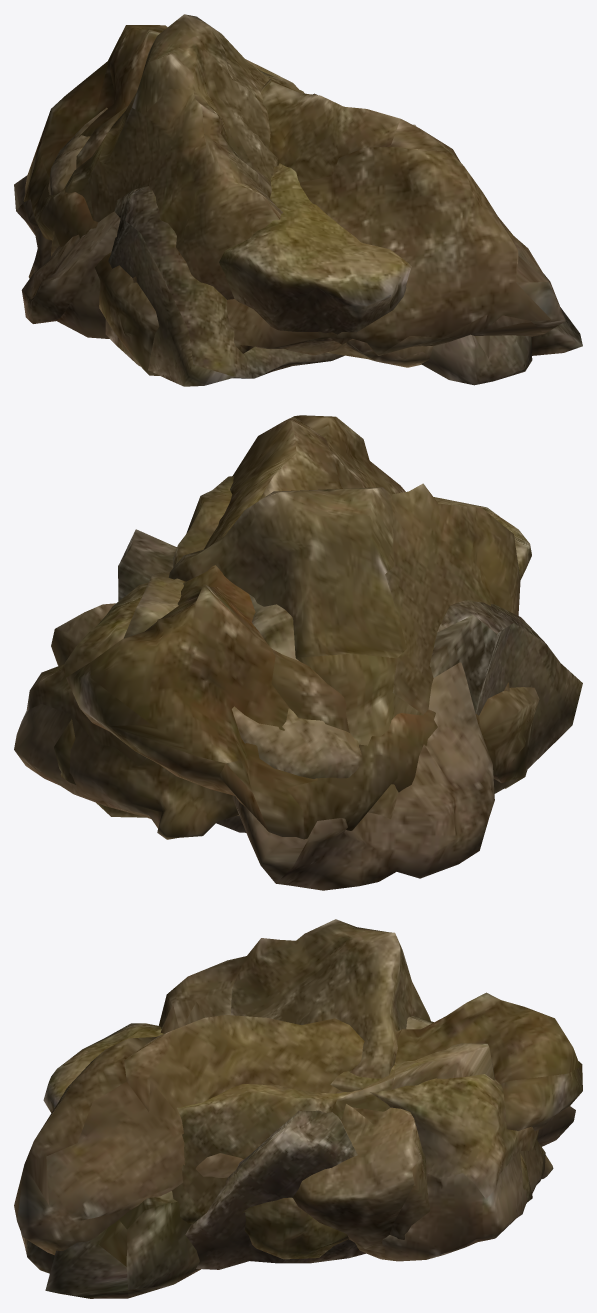
Rendered from rock_moss_set_01.glb.
The picture shows the model from 3 angles, top to bottom: view 1: azimuth 30°, elevation 25°; view 2: azimuth 150°, elevation 25°; view 3: azimuth 270°, elevation 25°; orthographic projection. The views are drawn at different scales.
Visible parts, largest first — view 1: rock_moss_set_01_rock01, rock_moss_set_01_rock04, rock_moss_set_01_rock05, rock_moss_set_01_rock03, rock_moss_set_01_rock02, rock_moss_set_01_rock06; view 2: rock_moss_set_01_rock01, rock_moss_set_01_rock04, rock_moss_set_01_rock02, rock_moss_set_01_rock05, rock_moss_set_01_rock03, rock_moss_set_01_rock06; view 3: rock_moss_set_01_rock01, rock_moss_set_01_rock04, rock_moss_set_01_rock05, rock_moss_set_01_rock06, rock_moss_set_01_rock02, rock_moss_set_01_rock03.
Part boxes in pixels (<box>): rock_moss_set_01_rock01: <box>23,25,565,375</box>; rock_moss_set_01_rock04: <box>51,14,317,299</box>; rock_moss_set_01_rock05: <box>48,90,411,355</box>; rock_moss_set_01_rock03: <box>105,124,416,386</box>; rock_moss_set_01_rock02: <box>14,175,582,385</box>; rock_moss_set_01_rock06: <box>245,59,433,367</box>; rock_moss_set_01_rock01: <box>66,415,539,839</box>; rock_moss_set_01_rock04: <box>51,483,520,819</box>; rock_moss_set_01_rock02: <box>232,594,494,890</box>; rock_moss_set_01_rock05: <box>14,497,531,839</box>; rock_moss_set_01_rock03: <box>118,529,582,832</box>; rock_moss_set_01_rock06: <box>54,476,233,817</box>; rock_moss_set_01_rock01: <box>14,992,582,1255</box>; rock_moss_set_01_rock04: <box>158,919,430,1253</box>; rock_moss_set_01_rock05: <box>43,1023,553,1261</box>; rock_moss_set_01_rock06: <box>172,1043,532,1259</box>; rock_moss_set_01_rock02: <box>21,1016,575,1298</box>; rock_moss_set_01_rock03: <box>185,1110,365,1269</box>.
Size of the model in its own units: 2.65 by 1.76 by 3.36.
1 material, 1 textured.
